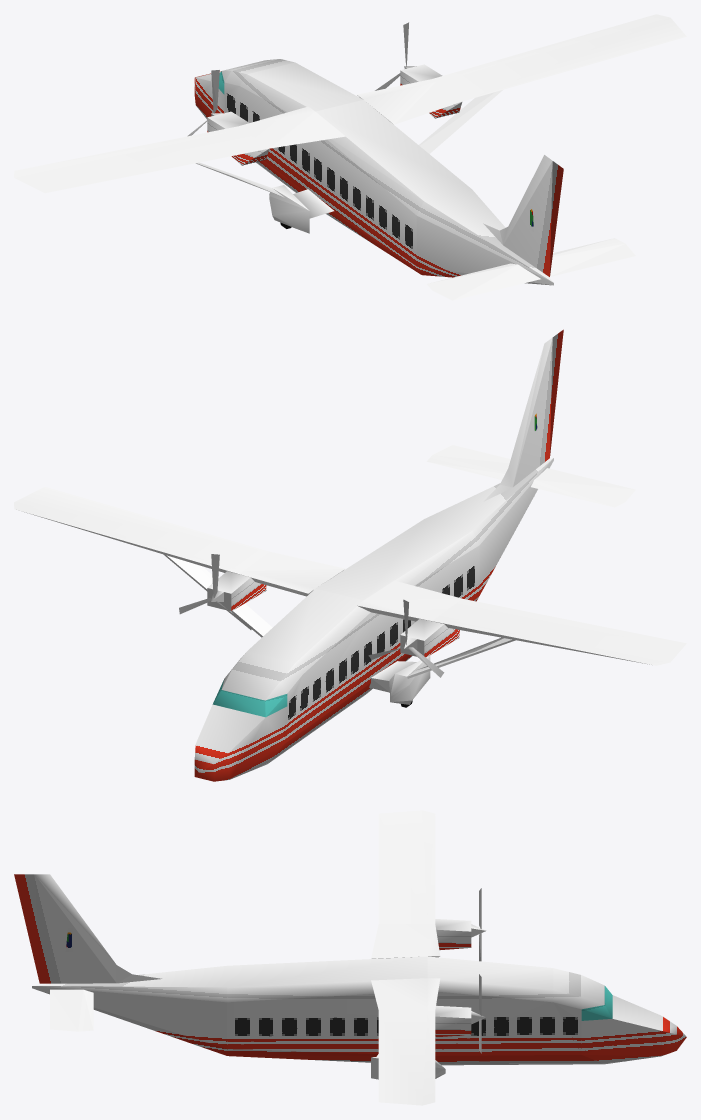
Rendered from uvmd-0046.glb.
3 renders of one model, top to bottom at view 1: azimuth 30°, elevation 25°; view 2: azimuth 150°, elevation 25°; view 3: azimuth 270°, elevation 25°, orthographic. The views are drawn at different scales.
Visible parts, largest first — view 1: uvmd-0046; view 2: uvmd-0046; view 3: uvmd-0046.
Boxes of the visible parts, x1,y1,x2,y2 form: uvmd-0046: (14,14,686,300); uvmd-0046: (14,329,686,781); uvmd-0046: (14,810,686,1105).
Bounding box in the file's own units: 272 × 80 × 262.
Materials: 3 (3 with a texture image).
